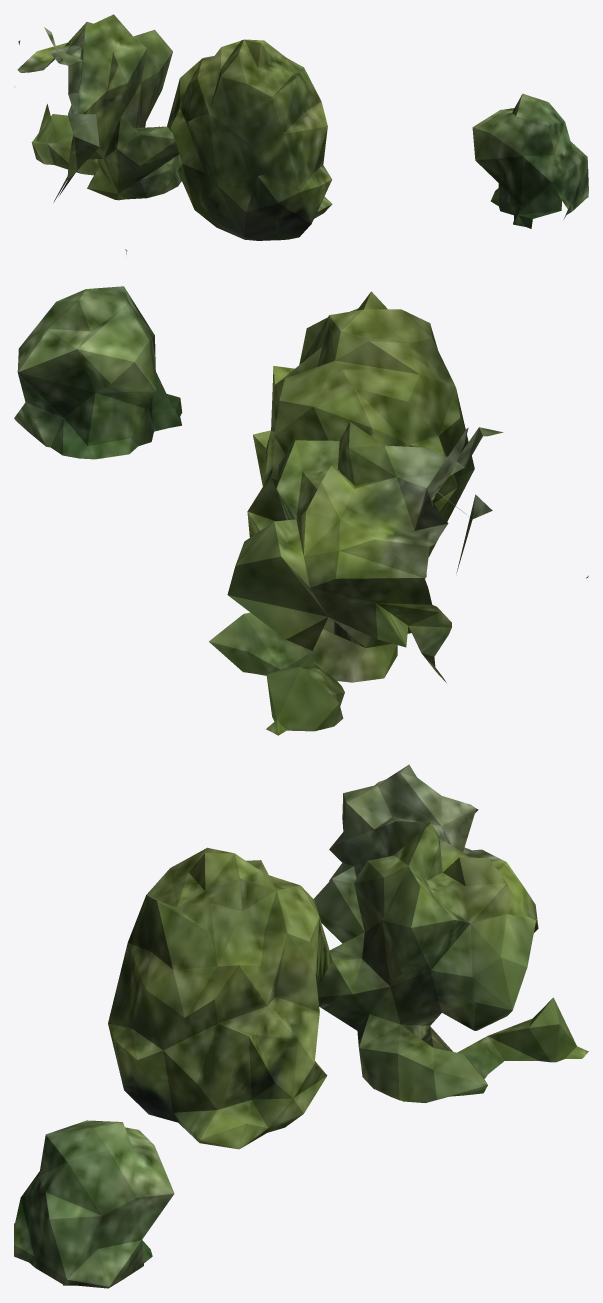
3 renders of one model, top to bottom at view 1: azimuth 30°, elevation 25°; view 2: azimuth 150°, elevation 25°; view 3: azimuth 270°, elevation 25°, orthographic. The views are drawn at different scales.
Size of the model in its own units: 27.35 by 11.34 by 23.66.
1 material, 1 textured.
